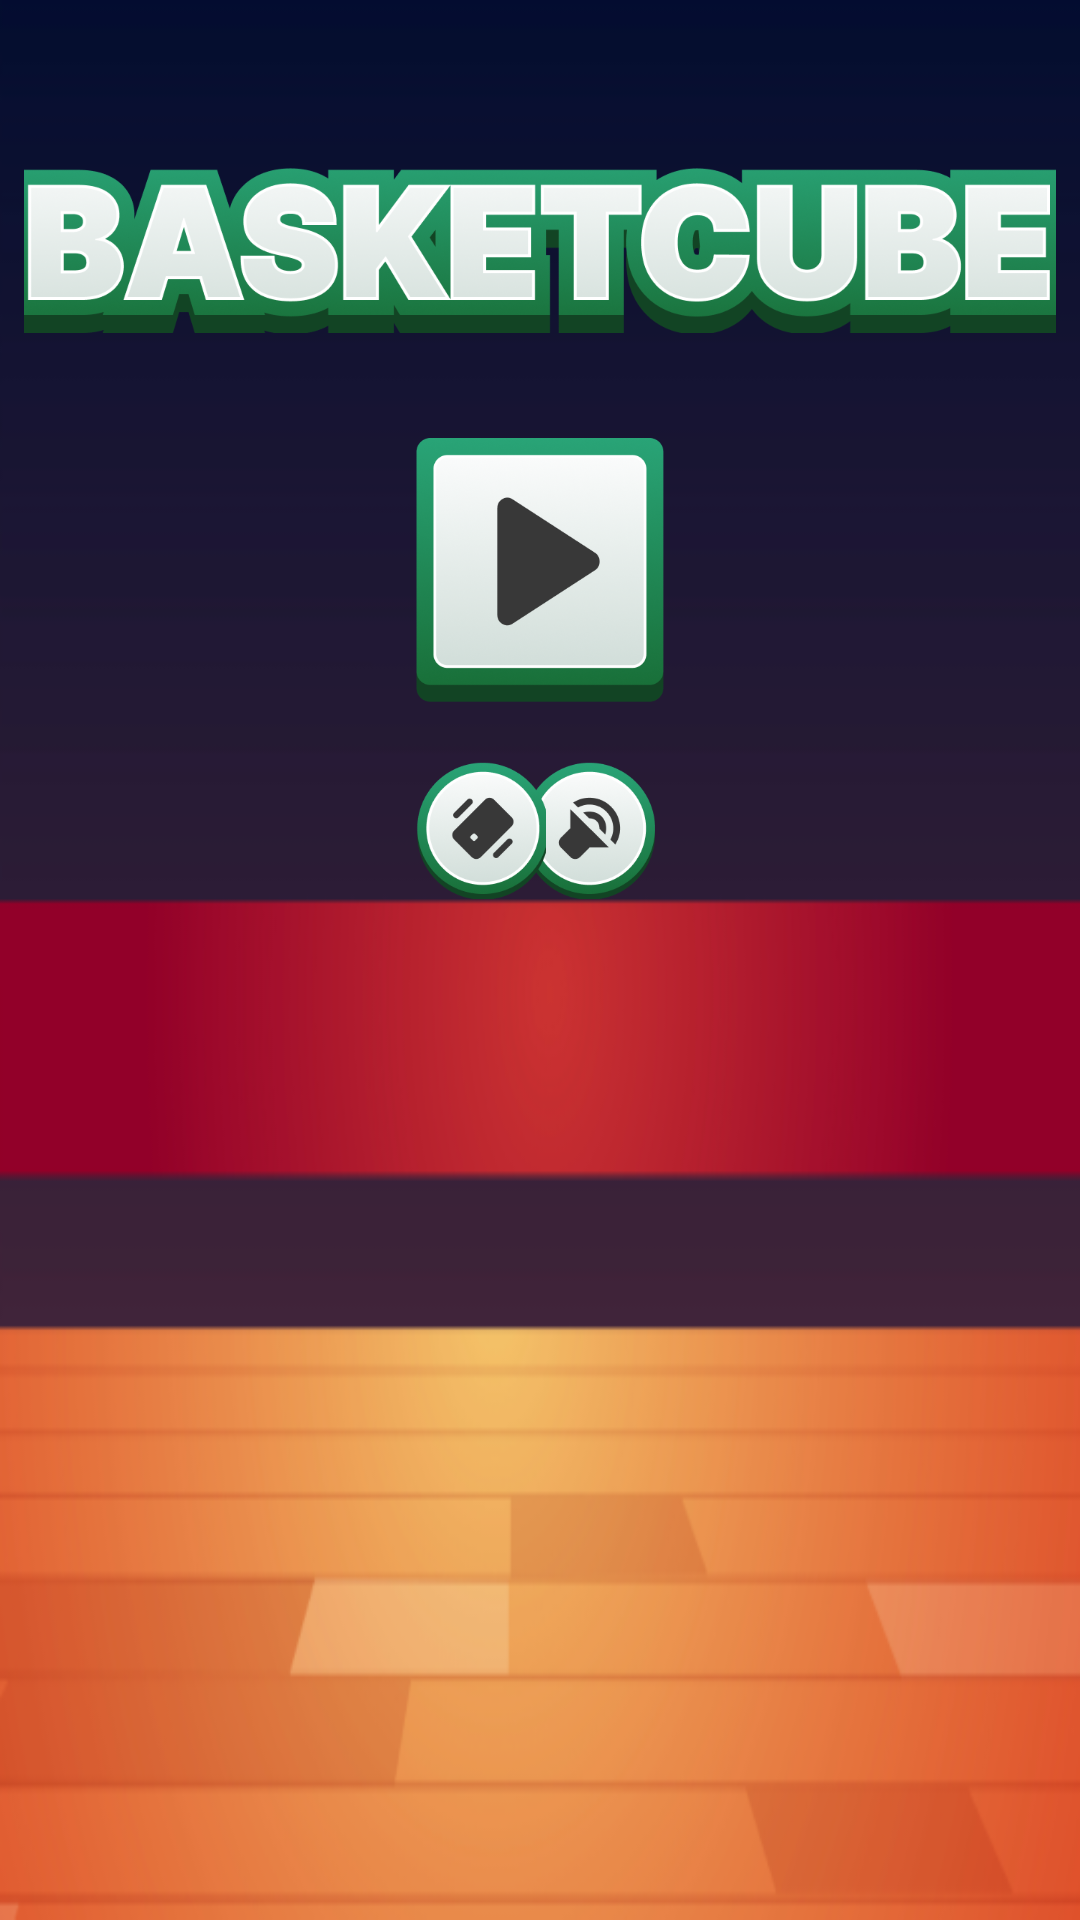

Icons on this 1080 × 1920 Android screen, each with the point to tap as (x,y):
play: (540,570)
shake: (480,830)
sound: (589,830)
